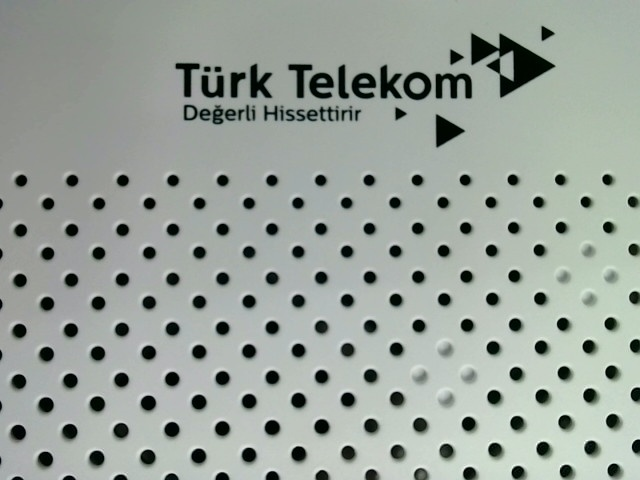AQ_TURKTelekom: (168, 14, 558, 150)
